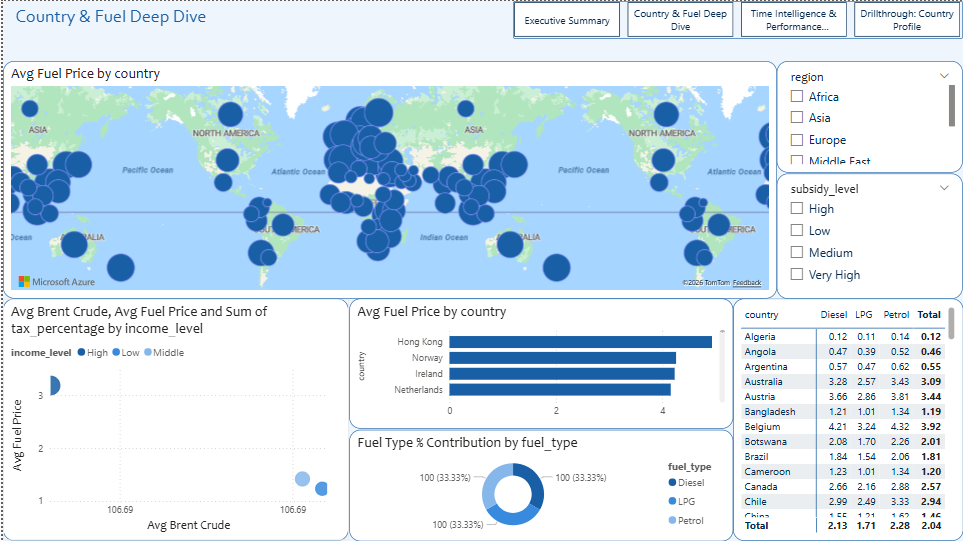

What the dashboard file says about the page in this screenshot:
{"tool":"powerbi","page":{"name":"Country & Fuel Deep Dive","canvas":[1280,720],"ordinal":1},"visuals":[{"type":"textbox","box":[11.8,0,323.6,59.2],"z":0},{"type":"pivotTable","fields":{"Rows":["DimCountry.country"],"Columns":["DimFuelType.fuel_type"],"Values":["FactFuelPrices.Avg Fuel Price"]},"box":[973.4,397.4,306.9,322.8],"z":1000},{"type":"scatterChart","fields":{"X":["FactFuelPrices.Avg Brent Crude"],"Y":["FactFuelPrices.Avg Fuel Price"],"Series":["DimCountry.income_level"],"Size":["Sum(FactFuelPrices.tax_percentage)"]},"box":[0,397.4,461,322.8],"z":2000},{"type":"slicer","fields":{"Values":["DimCountry.subsidy_level"]},"box":[1032.1,229.9,248.2,167.5],"z":3000},{"type":"azureMap","fields":{"Category":["DimCountry.country"],"Size":["FactFuelPrices.Avg Fuel Price"]},"box":[0,80.7,1032.1,316.7],"z":4000},{"type":"clusteredBarChart","fields":{"Y":["FactFuelPrices.Avg Fuel Price"],"Category":["DimCountry.country"]},"box":[460,396.7,511.7,175],"z":5000},{"type":"donutChart","fields":{"Category":["FactFuelPrices.fuel_type"],"Y":["FactFuelPrices.Fuel Type % Contribution"]},"box":[461,571.1,512.4,149.2],"z":6000},{"type":"slicer","fields":{"Values":["DimCountry.region"]},"box":[1032.1,80.7,248.2,149.2],"z":7000},{"type":"bookmarkNavigator","box":[680,0,600,50],"z":8000}]}

Visuals, with their boxes in screenshot pixels (x1, y1, x2, y2), scaled from the page's 1280x720 canvas onto the 963x541 screenshot:
textbox: (x1=9, y1=0, x2=252, y2=44)
pivotTable - DimCountry.country x DimFuelType.fuel_type: (x1=732, y1=299, x2=962, y2=540)
scatterChart - FactFuelPrices.Avg Brent Crude x FactFuelPrices.Avg Fuel Price: (x1=0, y1=299, x2=347, y2=540)
slicer - DimCountry.subsidy_level: (x1=776, y1=173, x2=962, y2=299)
azureMap - DimCountry.country x FactFuelPrices.Avg Fuel Price: (x1=0, y1=61, x2=776, y2=299)
clusteredBarChart - FactFuelPrices.Avg Fuel Price x DimCountry.country: (x1=346, y1=298, x2=731, y2=430)
donutChart - FactFuelPrices.fuel_type x FactFuelPrices.Fuel Type % Contribution: (x1=347, y1=429, x2=732, y2=540)
slicer - DimCountry.region: (x1=776, y1=61, x2=962, y2=173)
bookmarkNavigator: (x1=512, y1=0, x2=962, y2=38)
